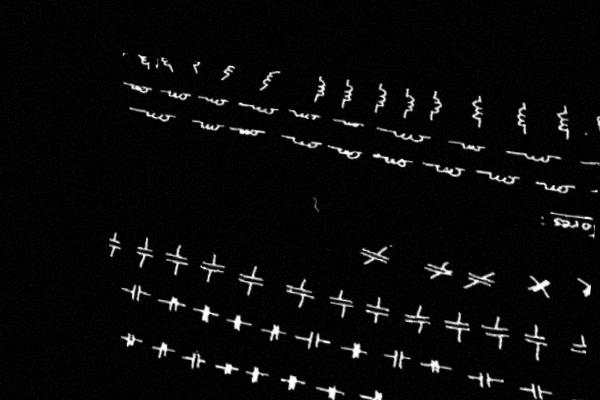capacitor: (399, 306, 437, 333), (382, 343, 414, 375), (466, 365, 502, 393), (298, 326, 330, 357), (477, 318, 516, 343), (234, 266, 270, 293), (282, 279, 319, 305), (195, 254, 230, 281), (161, 244, 192, 274), (355, 244, 395, 267), (518, 327, 554, 352), (323, 290, 357, 316), (419, 260, 459, 280), (360, 297, 393, 321), (440, 314, 474, 337), (342, 338, 371, 364), (523, 275, 556, 297), (122, 279, 148, 306), (261, 319, 287, 346), (463, 271, 499, 290), (245, 361, 269, 389), (160, 291, 186, 316), (281, 370, 306, 396), (195, 300, 219, 327), (421, 355, 449, 378), (227, 308, 250, 336), (133, 239, 157, 264), (565, 335, 587, 362), (523, 379, 551, 400), (152, 340, 175, 363), (185, 349, 206, 373), (320, 380, 345, 400), (218, 356, 238, 380), (364, 385, 394, 400), (120, 330, 139, 350), (575, 277, 591, 300), (108, 233, 124, 255), (573, 390, 583, 400)
inductor: (549, 106, 578, 137), (535, 177, 576, 198), (513, 148, 560, 166), (508, 102, 534, 132), (385, 128, 429, 145), (481, 169, 520, 188), (422, 91, 448, 119), (368, 84, 393, 113), (465, 96, 490, 124), (335, 79, 359, 108), (397, 88, 421, 116), (428, 162, 465, 179), (309, 75, 330, 102), (142, 108, 175, 125), (378, 154, 413, 170), (261, 69, 285, 92), (331, 145, 363, 162), (289, 135, 322, 150), (195, 118, 224, 135), (247, 102, 278, 117), (456, 139, 485, 155), (290, 109, 319, 124), (164, 86, 191, 102), (220, 65, 245, 82), (232, 125, 262, 139), (126, 81, 152, 96), (202, 94, 228, 108), (337, 117, 363, 131), (588, 110, 600, 137), (134, 54, 152, 68), (156, 57, 174, 70), (185, 60, 203, 71), (590, 158, 600, 173), (122, 53, 128, 60)
